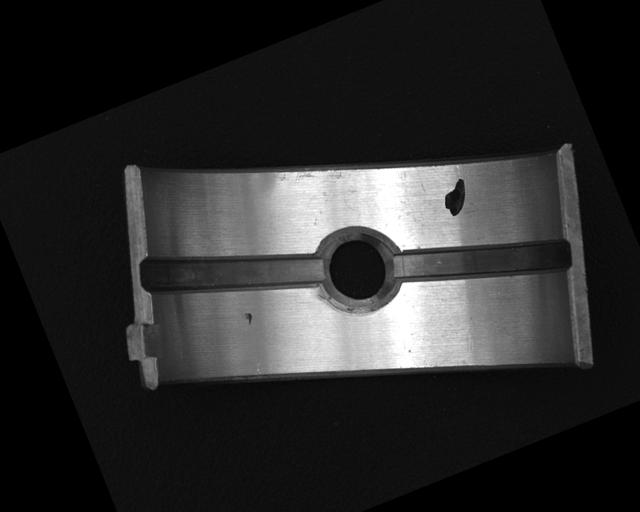blot: (437, 177, 476, 219)
bruise: (243, 310, 255, 326)
gap: (138, 200, 329, 344), (390, 195, 580, 329)
hole: (309, 218, 410, 323)
